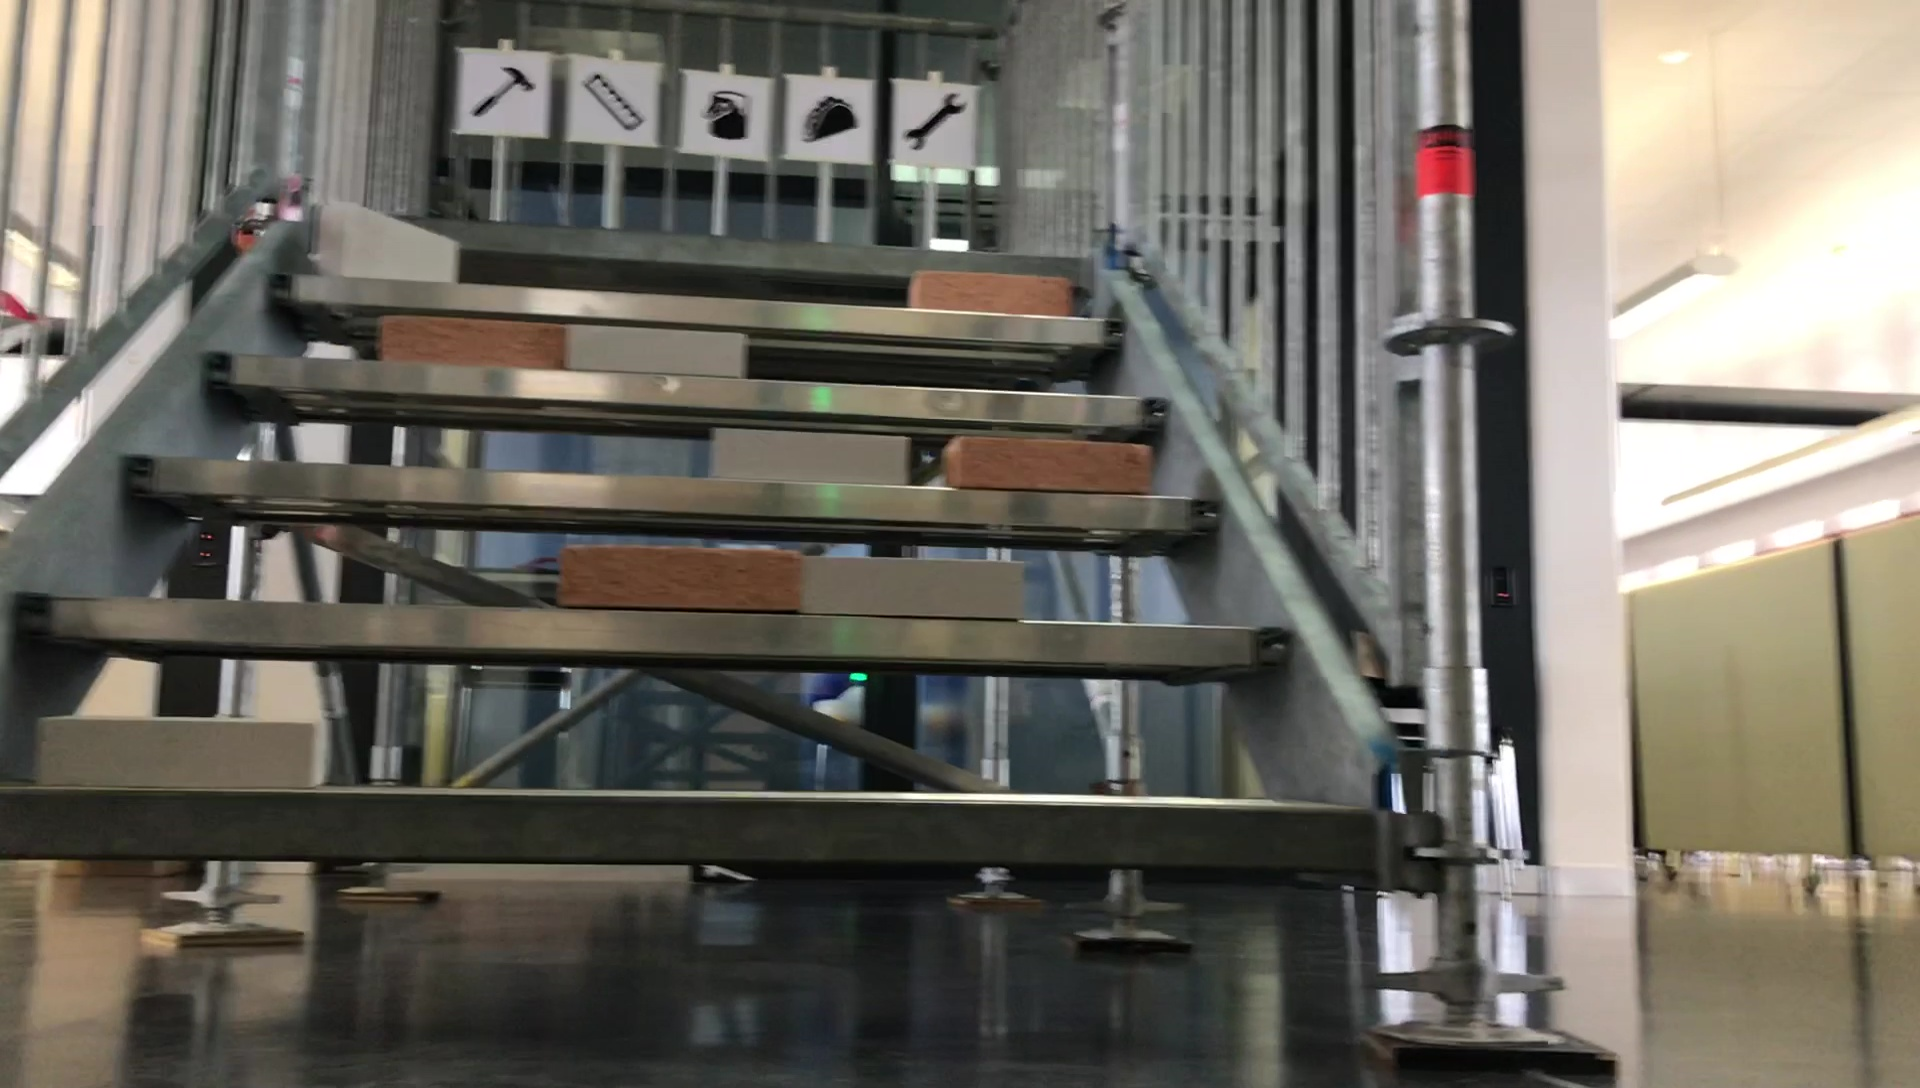brick: (21, 727, 315, 790), (783, 555, 1040, 624), (553, 545, 804, 611), (315, 195, 468, 285), (931, 440, 1167, 495), (705, 427, 909, 485), (393, 309, 567, 365), (564, 328, 752, 375), (907, 265, 1087, 313)
bucket: (700, 88, 756, 145)
edge: (103, 442, 1199, 537), (0, 797, 1419, 862), (255, 268, 1087, 348), (18, 619, 1290, 654), (210, 372, 1162, 411), (336, 233, 1084, 252)
hammer: (468, 58, 537, 123)
ruler: (587, 70, 641, 136)
stairs: (0, 0, 1557, 1050)
steps: (0, 224, 1465, 892)
taco: (796, 95, 857, 148)
wrench: (899, 94, 969, 148)
